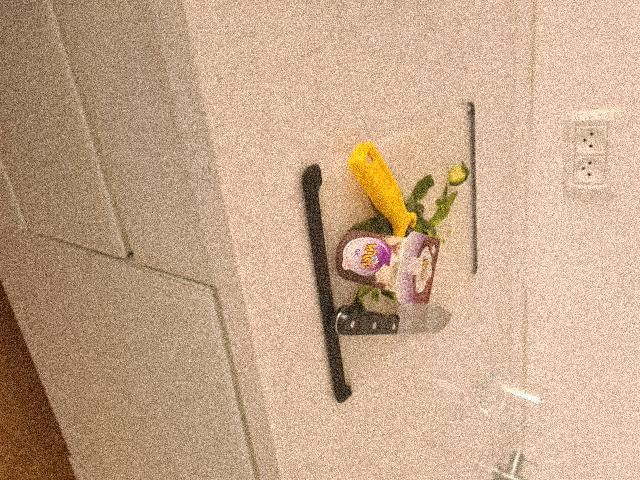milky: (331, 230, 443, 298)
